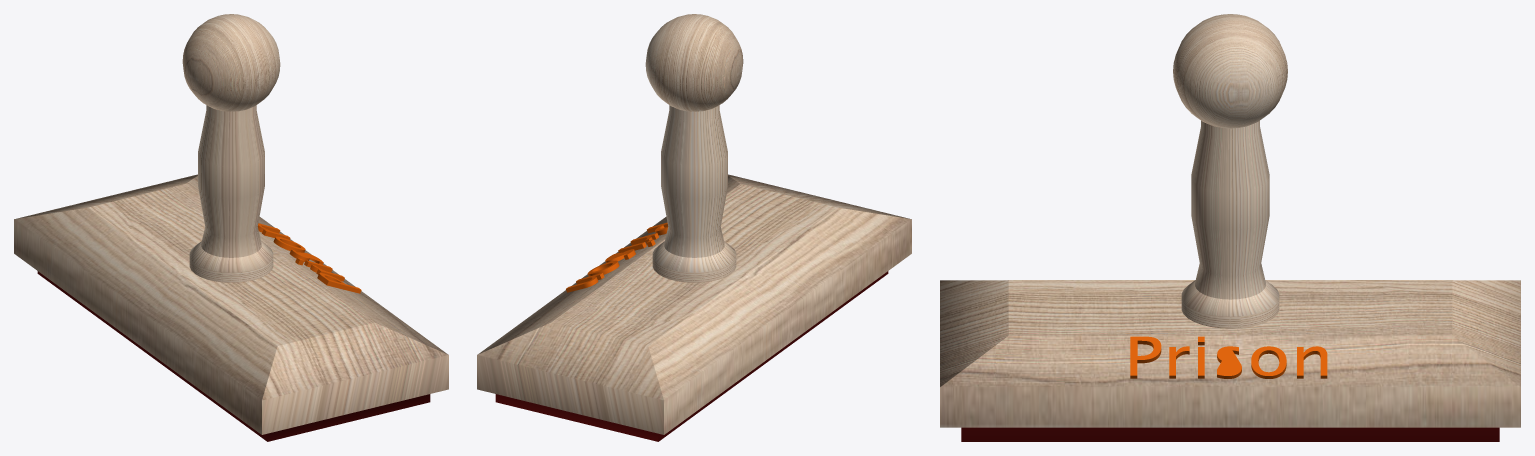
The model's file is prisom stamp.fbx.
3 renders of one model, left to right at view 1: azimuth 30°, elevation 25°; view 2: azimuth 150°, elevation 25°; view 3: azimuth 270°, elevation 25°, orthographic. The views are drawn at different scales.
Parts seen in each view (by area): view 1: pCube4; view 2: pCube4; view 3: pCube4.
Boxes of the visible parts, x1=… form: pCube4: x1=14, y1=14, x2=448, y2=441; pCube4: x1=477, y1=14, x2=911, y2=441; pCube4: x1=940, y1=14, x2=1520, y2=441.
Bounding box in the file's own units: 0.5275 × 0.883 × 1.21.
